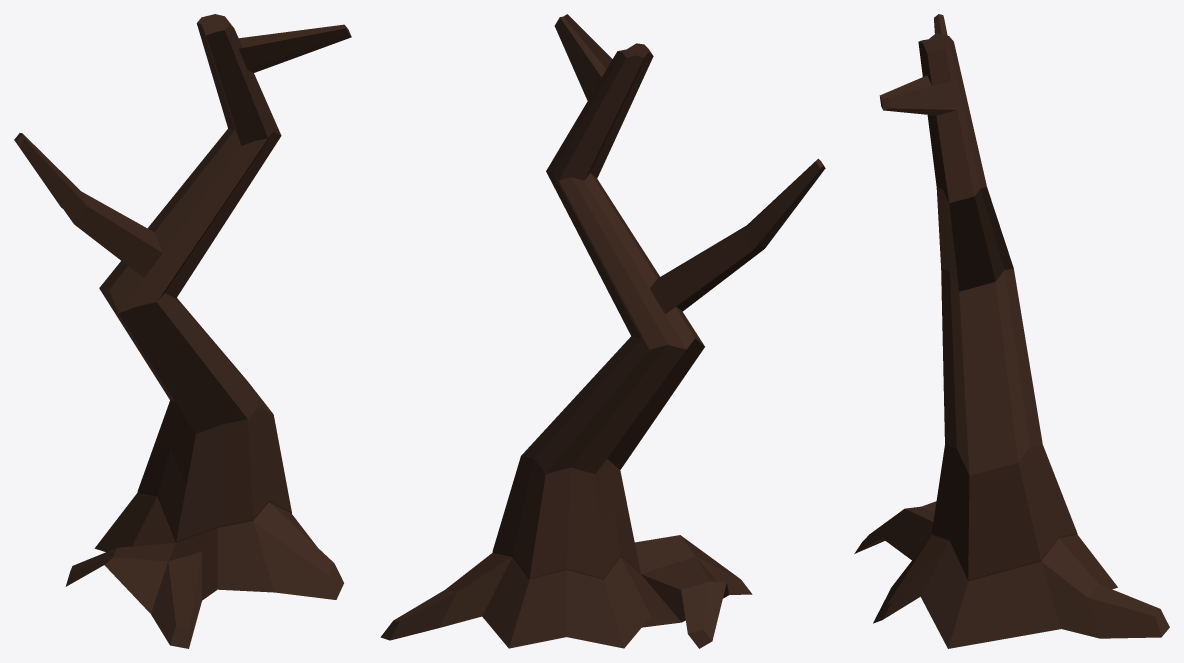
The model's file is ArvoreSemFolhas2.fbx.
3 views of the same model, side by side, from view 1: azimuth 30°, elevation 25°; view 2: azimuth 150°, elevation 25°; view 3: azimuth 270°, elevation 25° (orthographic). The views are drawn at different scales.
Parts seen in each view (by area): view 1: Cylinder; view 2: Cylinder; view 3: Cylinder.
Boxes of the visible parts, left/top/right/bottom form: Cylinder: left=14, top=14, right=351, bottom=648; Cylinder: left=380, top=14, right=825, bottom=648; Cylinder: left=854, top=14, right=1169, bottom=648.
Size of the model in its own units: 305 by 496 by 257.
